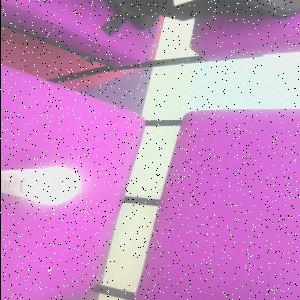Cup: (2, 167, 83, 207)
